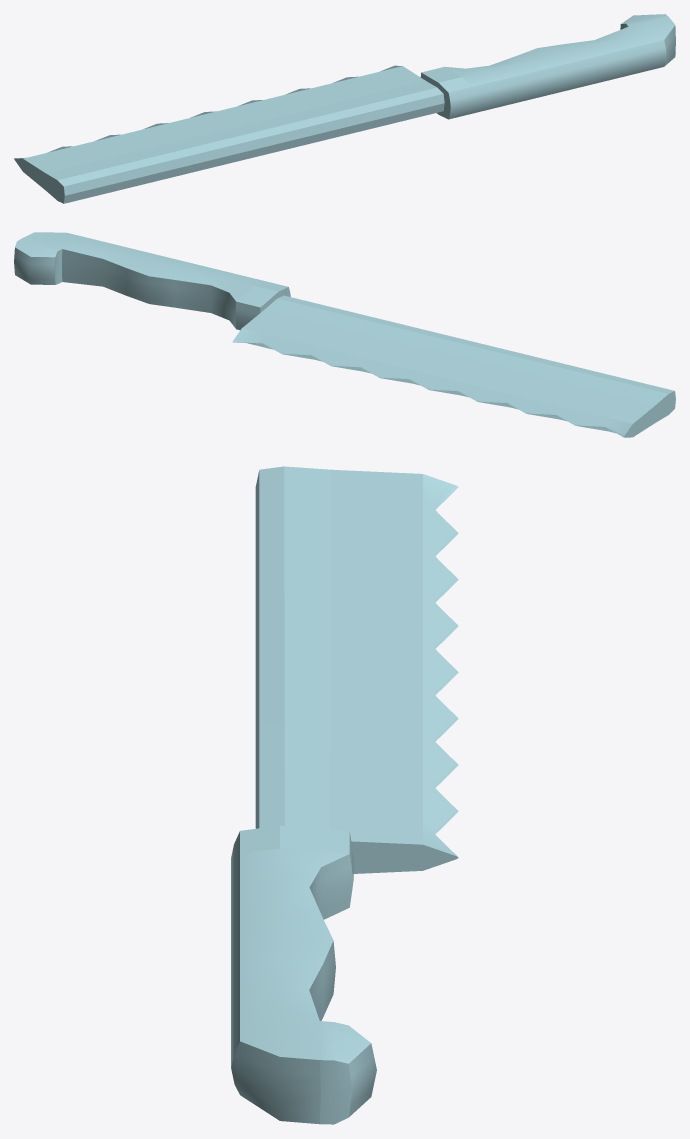
Rendered from Cuchillo_002.fbx.
3 renders of one model, top to bottom at view 1: azimuth 30°, elevation 25°; view 2: azimuth 150°, elevation 25°; view 3: azimuth 270°, elevation 25°, orthographic. The views are drawn at different scales.
Parts seen in each view (by area): view 1: Cuchillo_002; view 2: Cuchillo_002; view 3: Cuchillo_002.
Part boxes in pixels (left/top/right/bottom): Cuchillo_002: left=14, top=14, right=675, bottom=203; Cuchillo_002: left=14, top=232, right=675, bottom=437; Cuchillo_002: left=231, top=466, right=458, bottom=1124.
Size of the model in its own units: 0.0161 by 0.000797 by 0.00257.
